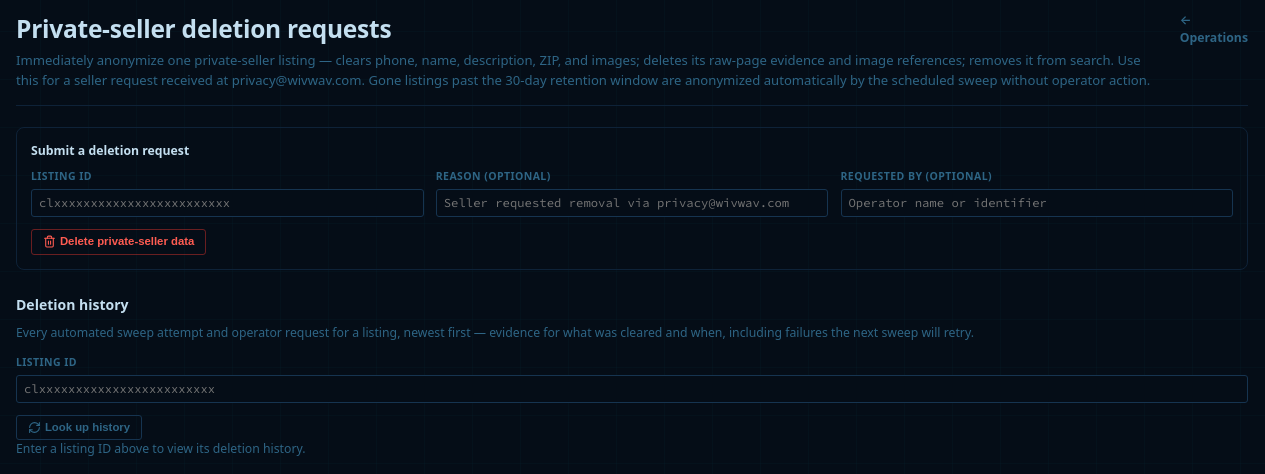
PrivacyRequestsClient deletion history › should show an empty-state message when no history exists
The image size is (1265, 474).
Type "listing-3" into the 2nd field with placeholder "clxxxxxxxxxxxxxxxxxxxxxxxx" at [632, 389], box [16,375,1248,403]
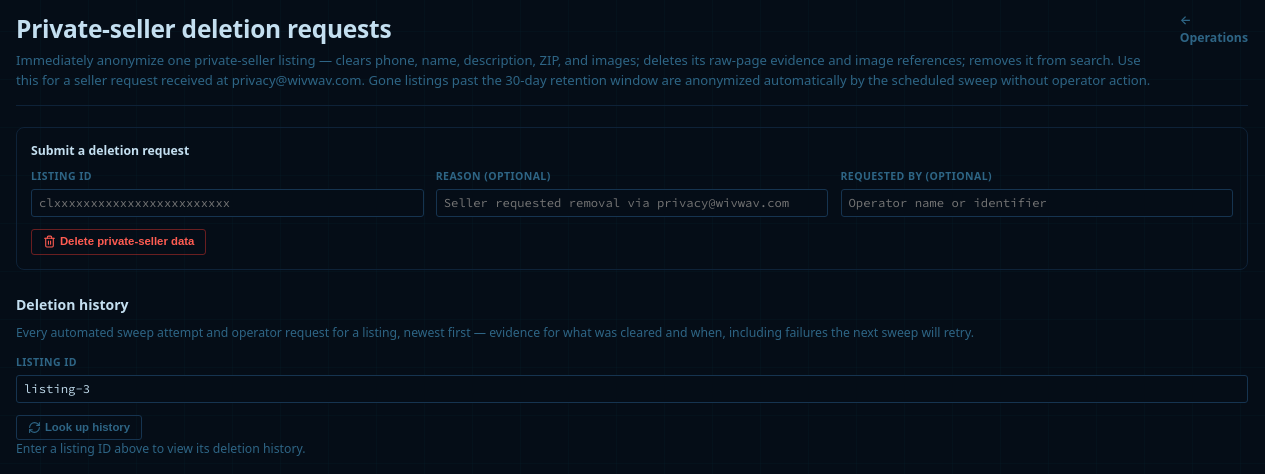
Click the button "Look up history" at [79, 428], box [16,415,142,440]
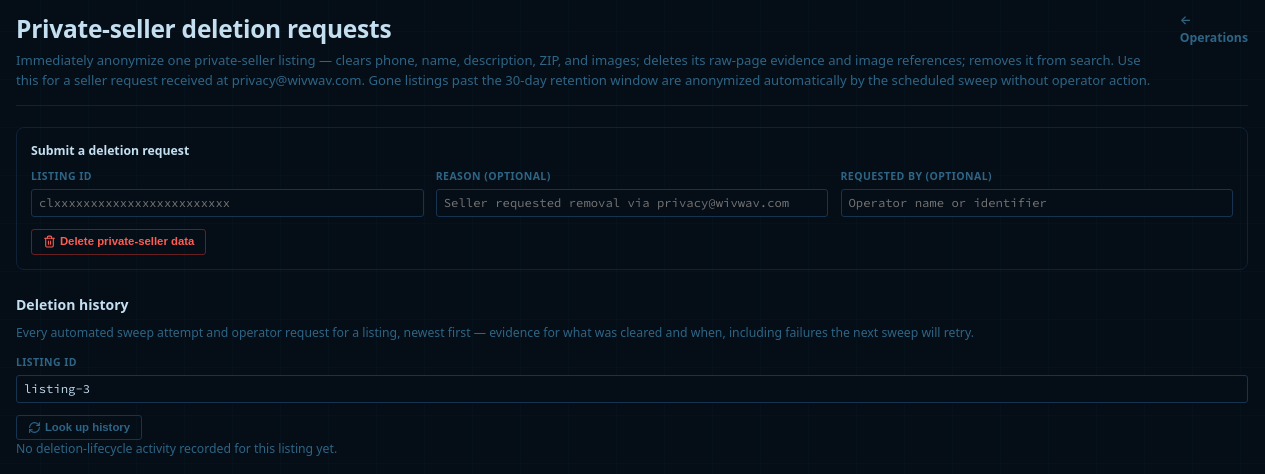
Expected: the text "No deletion-lifecycle activity recorded" is shown, [16,440,337,457]
